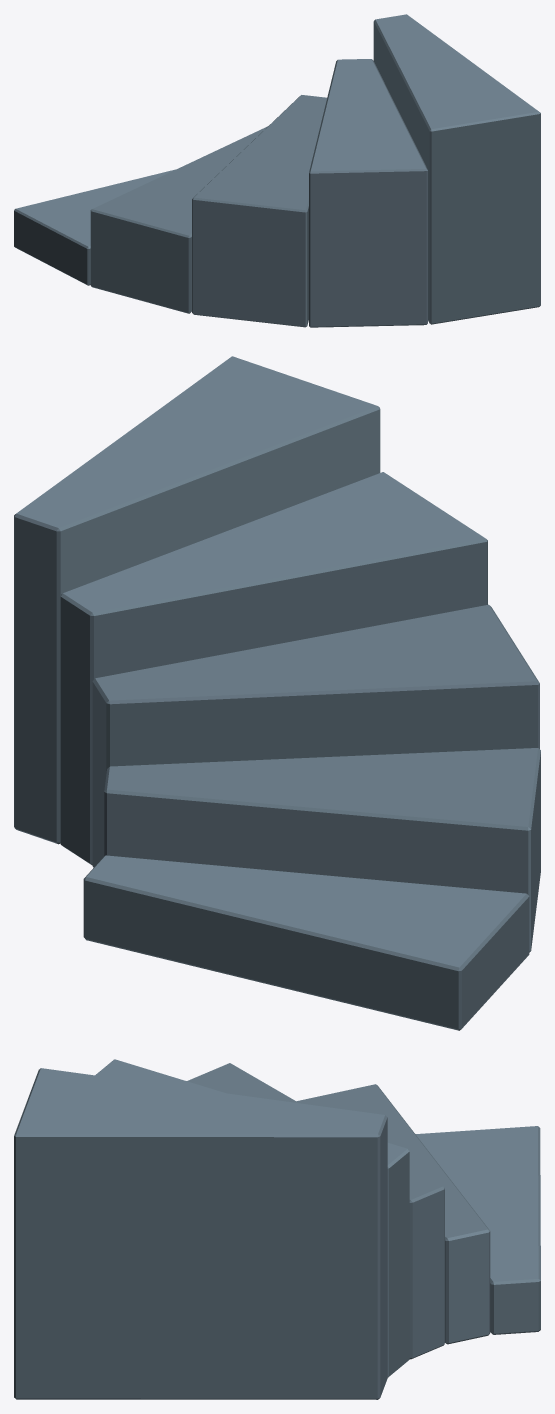
The model's file is P47_Steps_Quarter.fbx.
3 renders of one model, top to bottom at view 1: azimuth 30°, elevation 25°; view 2: azimuth 150°, elevation 25°; view 3: azimuth 270°, elevation 25°, orthographic. The views are drawn at different scales.
Parts seen in each view (by area): view 1: P47_Steps_Quarter; view 2: P47_Steps_Quarter; view 3: P47_Steps_Quarter.
Part boxes in pixels (left/top/right/bottom): P47_Steps_Quarter: left=14, top=14, right=540, bottom=327; P47_Steps_Quarter: left=14, top=356, right=540, bottom=1030; P47_Steps_Quarter: left=14, top=1059, right=540, bottom=1399.
Bounding box in the file's own units: 1.8 × 1 × 1.8.
1 material, 1 textured.
